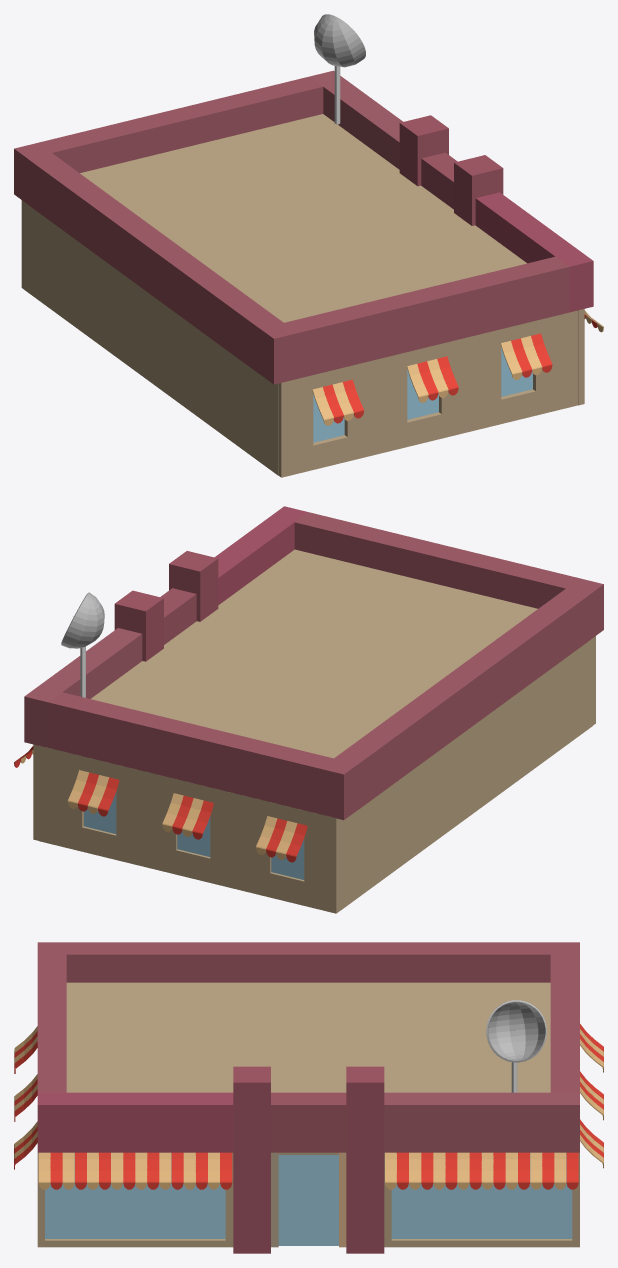
The model's file is Shop .fbx.
3 renders of one model, top to bottom at view 1: azimuth 30°, elevation 25°; view 2: azimuth 150°, elevation 25°; view 3: azimuth 270°, elevation 25°, orthographic. The views are drawn at different scales.
Parts seen in each view (by area): view 1: Roof, Back Wall, Shop Roof Liner.004, Shop Roof Liner.005, Shop Roof Liner.006, Shop Roof Liner.002, Shop Roof Liner.001, Shop Roof Liner, Store Front Pillar, Store Front Pillar.001, Small Windows, Sphere (+5 smaller); view 2: Roof, Shop Roof Liner.003, Back Wall, Shop Roof Liner.002, Shop Roof Liner.006, Shop Roof Liner.005, Shop Roof Liner, Shop Roof Liner.001, Store Front Pillar.001, Store Front Pillar, Small Window, Window Cover.016 (+4 smaller); view 3: Roof, Shop Roof Liner.006, Shop Roof Liner.001, Shop Roof Liner, Front Window.001, Front Window, Store Front Pillar, Store Front Pillar.001, Window Cover.008, Window Cover.006, Front Window.002, Shop Sign (+17 smaller).
Boxes of the visible parts, x1=… form: Roof: x1=80, y1=114, x2=526, y2=322; Back Wall: x1=25, y1=203, x2=278, y2=475; Shop Roof Liner.004: x1=278, y1=310, x2=577, y2=477; Shop Roof Liner.005: x1=260, y1=256, x2=569, y2=384; Shop Roof Liner.006: x1=27, y1=153, x2=283, y2=374; Shop Roof Liner.002: x1=14, y1=76, x2=323, y2=203; Shop Roof Liner.001: x1=475, y1=192, x2=593, y2=312; Shop Roof Liner: x1=309, y1=70, x2=403, y2=169; Store Front Pillar: x1=399, y1=115, x2=448, y2=186; Store Front Pillar.001: x1=454, y1=155, x2=503, y2=225; Small Windows: x1=313, y1=347, x2=532, y2=442; Sphere: x1=314, y1=14, x2=365, y2=67; Roof: x1=91, y1=549, x2=537, y2=758; Shop Roof Liner.003: x1=39, y1=745, x2=339, y2=913; Back Wall: x1=340, y1=638, x2=592, y2=910; Shop Roof Liner.002: x1=48, y1=692, x2=357, y2=820; Shop Roof Liner.006: x1=334, y1=588, x2=590, y2=809; Shop Roof Liner.005: x1=294, y1=512, x2=603, y2=639; Shop Roof Liner: x1=24, y1=628, x2=142, y2=747; Shop Roof Liner.001: x1=214, y1=506, x2=307, y2=604; Store Front Pillar.001: x1=169, y1=551, x2=218, y2=621; Store Front Pillar: x1=114, y1=590, x2=163, y2=661; Small Window: x1=84, y1=792, x2=304, y2=879; Window Cover.016: x1=67, y1=770, x2=119, y2=816; Roof: x1=66, y1=982, x2=550, y2=1092; Shop Roof Liner.006: x1=66, y1=942, x2=550, y2=982; Shop Roof Liner.001: x1=37, y1=1092, x2=233, y2=1152; Shop Roof Liner: x1=384, y1=1092, x2=579, y2=1152; Front Window.001: x1=391, y1=1155, x2=572, y2=1238; Front Window: x1=45, y1=1155, x2=225, y2=1238; Store Front Pillar: x1=346, y1=1066, x2=384, y2=1253; Store Front Pillar.001: x1=233, y1=1066, x2=270, y2=1253; Window Cover.008: x1=38, y1=1152, x2=232, y2=1189; Window Cover.006: x1=385, y1=1152, x2=578, y2=1189; Front Window.002: x1=278, y1=1155, x2=338, y2=1245; Shop Sign: x1=271, y1=1092, x2=346, y2=1152.
Size of the model in its own units: 1054 by 690 by 1562.
